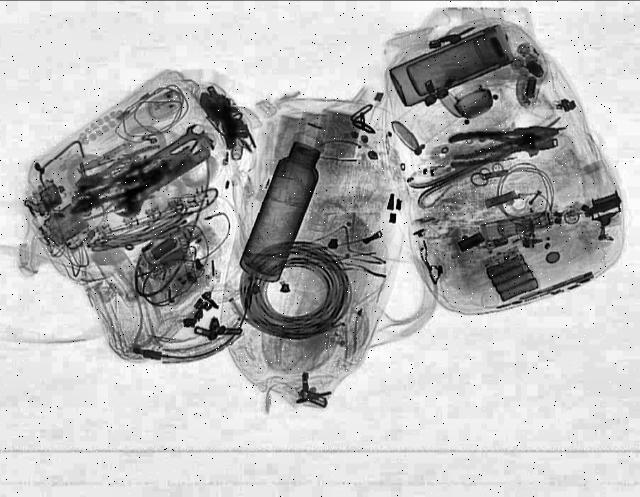Pliers: (60, 158, 170, 222), (451, 121, 564, 162)
Wrench: (107, 144, 219, 222), (137, 121, 213, 171)
